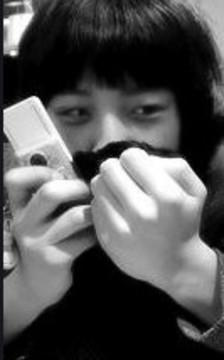WRONG: (40, 75, 182, 213)
